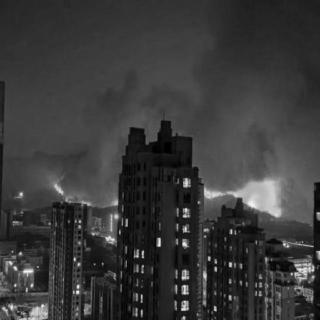Fire: (196, 175, 286, 221)
Smoke: (50, 12, 314, 172)
other: (283, 251, 315, 289), (102, 208, 120, 232)
